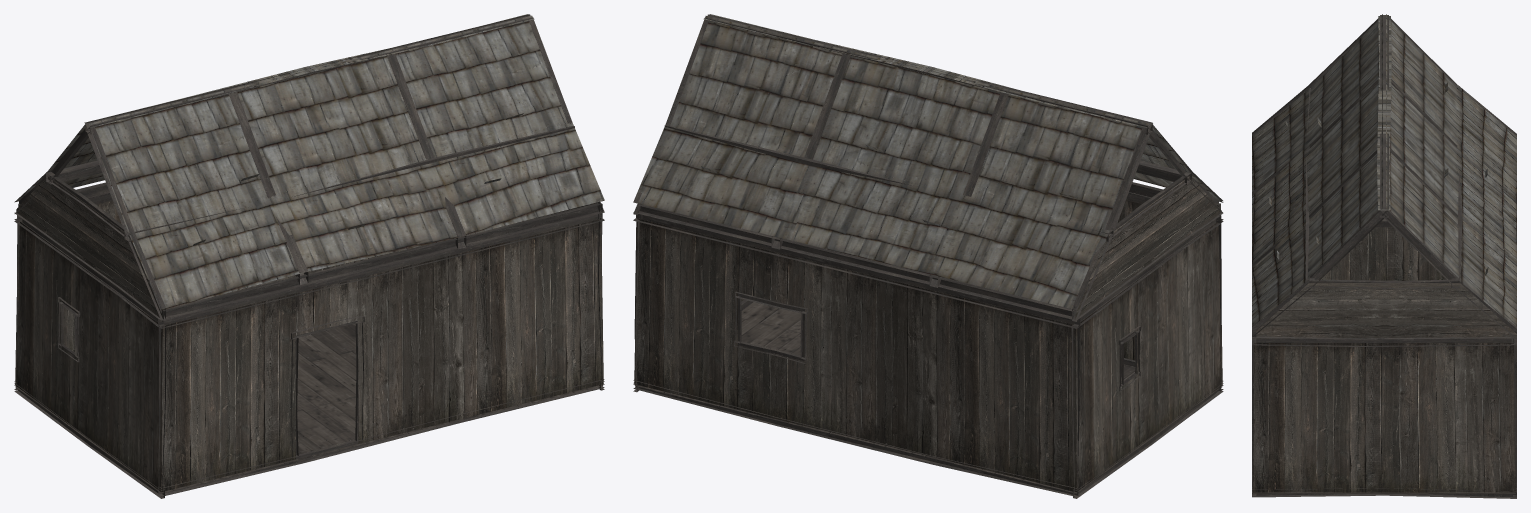
The model's file is hut_in.obj.
3 views of the same model, side by side, from view 1: azimuth 30°, elevation 25°; view 2: azimuth 150°, elevation 25°; view 3: azimuth 270°, elevation 25° (orthographic). The views are drawn at different scales.
Parts seen in each view (by area): view 1: HutInside; view 2: HutInside; view 3: HutInside.
Boxes of the visible parts, x1=… form: HutInside: x1=14, y1=14, x2=604, y2=498; HutInside: x1=633, y1=14, x2=1223, y2=498; HutInside: x1=1252, y1=14, x2=1516, y2=498.
Bounding box in the file's own units: 4.49 × 3.12 × 2.58.
4 materials, 4 textured.
